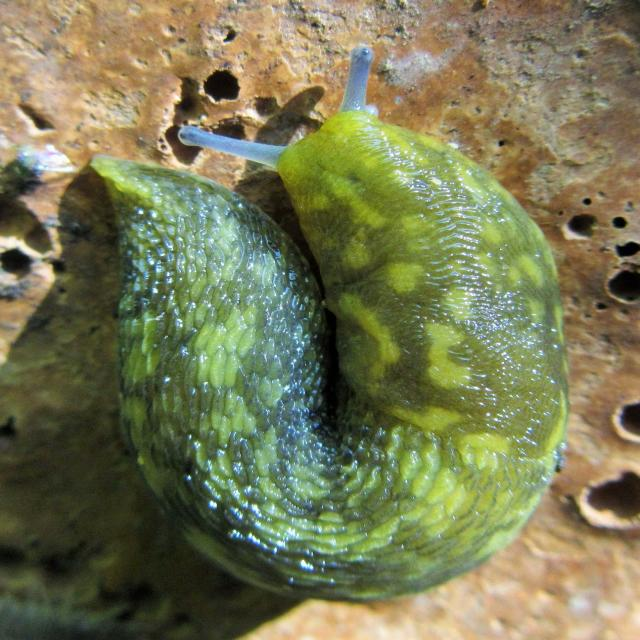slug: (87, 38, 564, 602)
